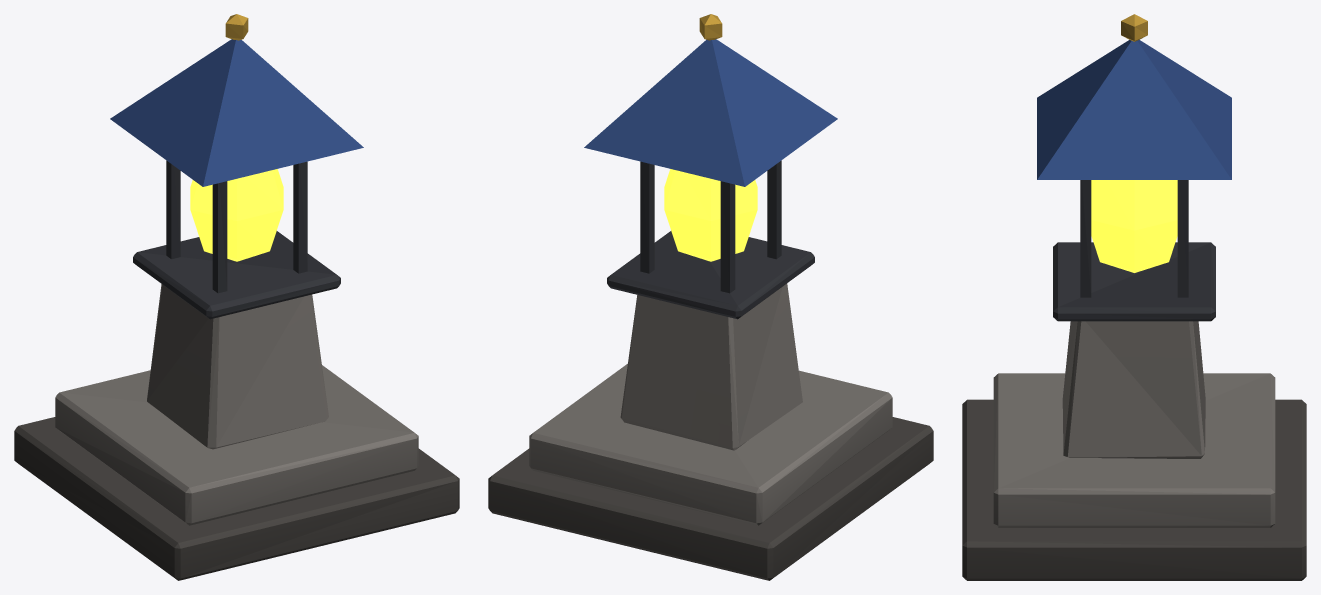
The model's file is hearth.glb.
3 renders of one model, left to right at view 1: azimuth 30°, elevation 25°; view 2: azimuth 150°, elevation 25°; view 3: azimuth 270°, elevation 25°, orthographic. The views are drawn at different scales.
Visible parts, largest first — view 1: hearth; view 2: hearth; view 3: hearth.
Part boxes in pixels (bbox=[...]): hearth: bbox=[14, 14, 459, 580]; hearth: bbox=[488, 14, 933, 580]; hearth: bbox=[962, 14, 1306, 580].
Size of the model in its own units: 1.1 by 1.75 by 1.1.
